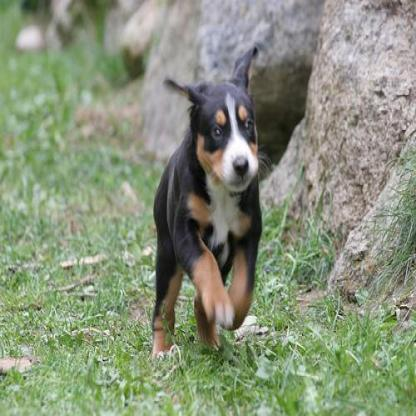Appenzeller: (148, 42, 263, 360)
